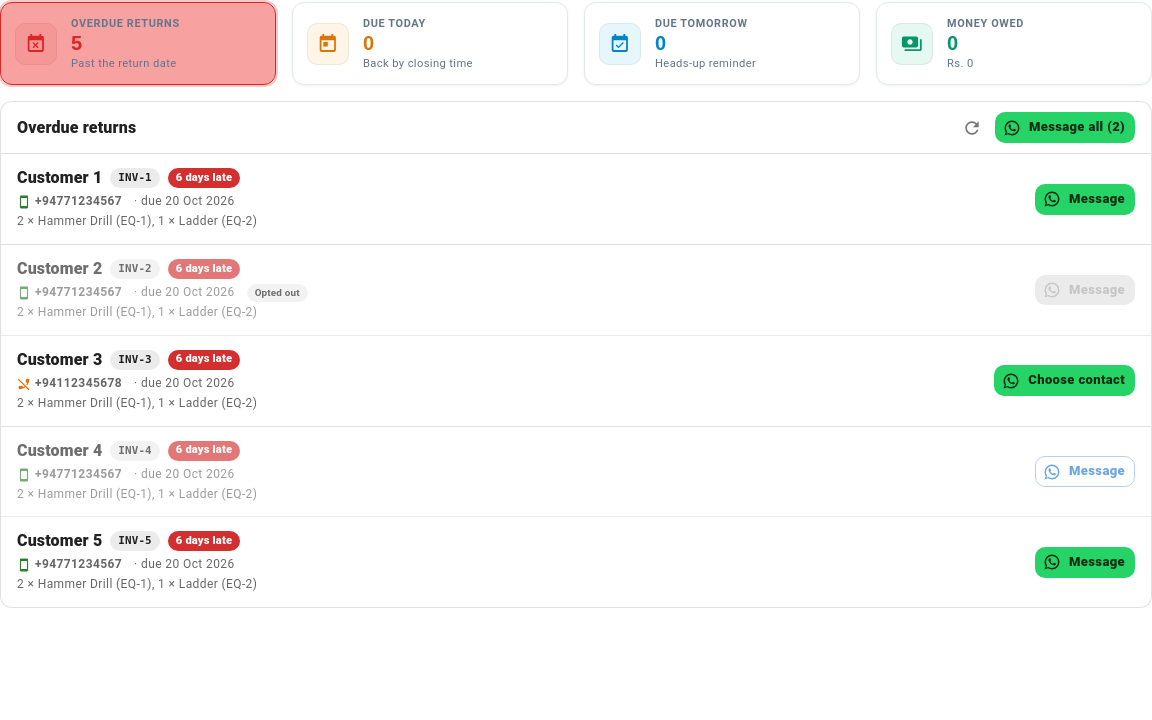
Test: WorklistTab › message the whole list › walks through them one by one, opening each chat and logging it
Click the button "Message all (2)" at (1065, 128), box [995, 112, 1135, 143]
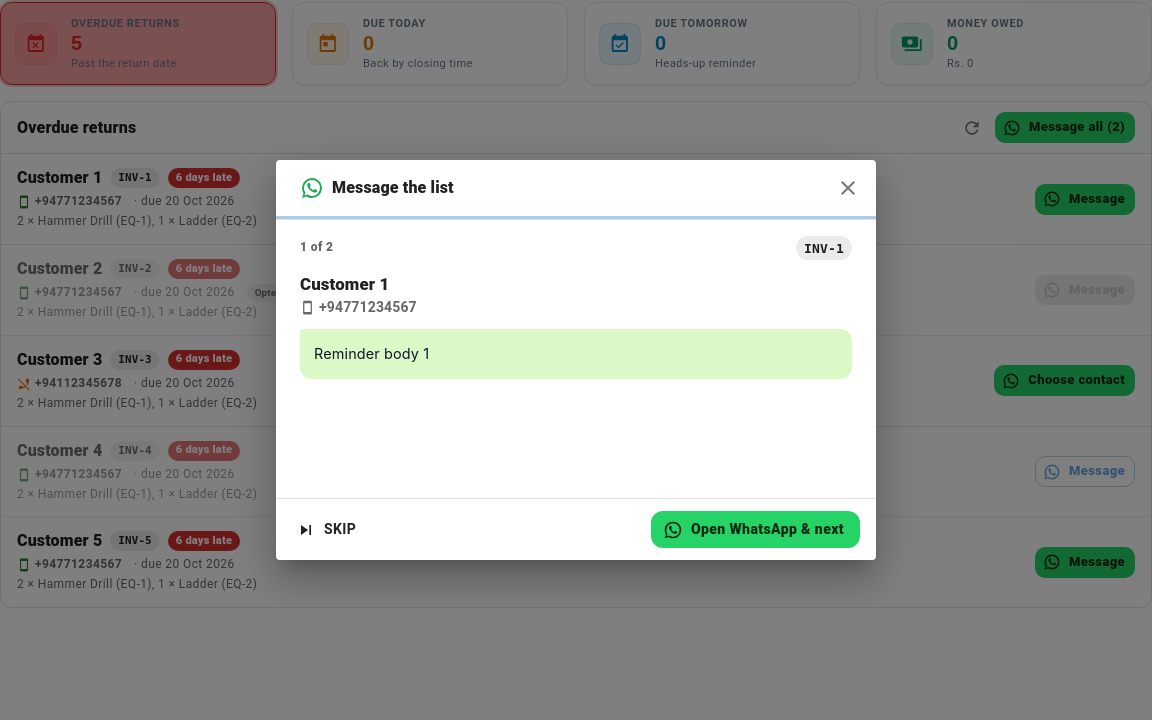
Now the text "1 of 2" is shown, box [300, 238, 333, 258]
Now the text with test id "queue-preview" reads "Reminder body 1", box [314, 346, 429, 362]
Click the button "Open WhatsApp & next" at (756, 530), box [651, 511, 860, 548]
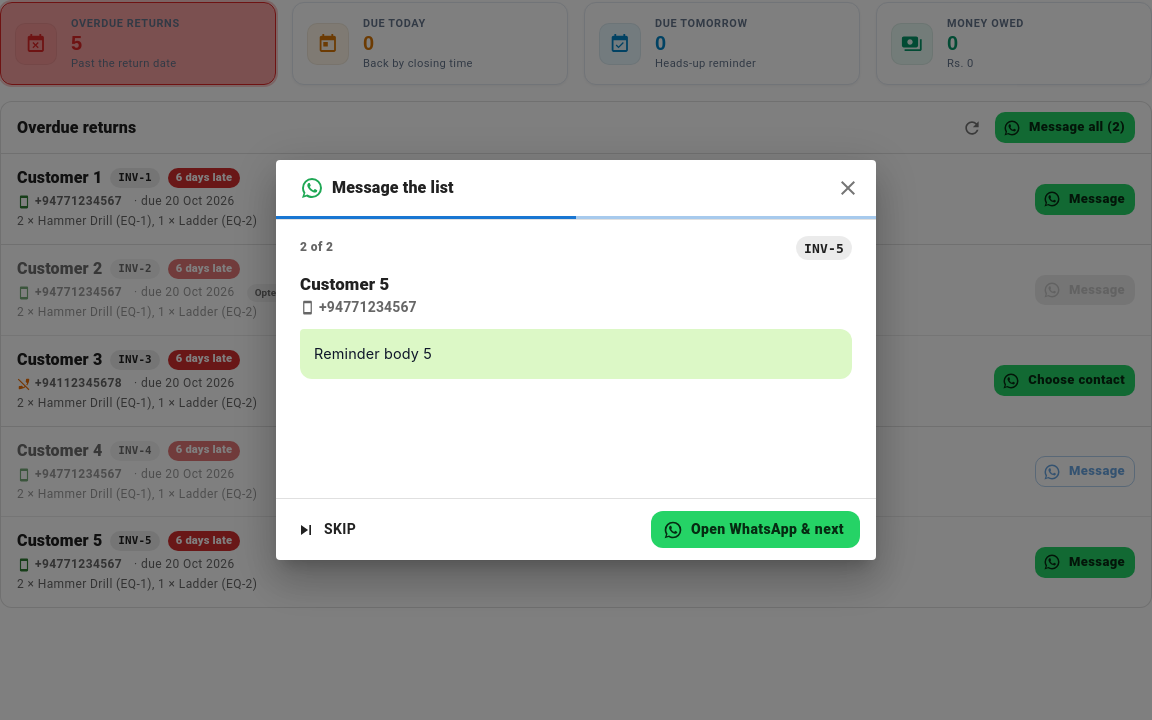
Now the text "2 of 2" is shown, box [300, 238, 333, 258]
Now the text with test id "queue-preview" reads "Reminder body 5", box [314, 346, 432, 362]
